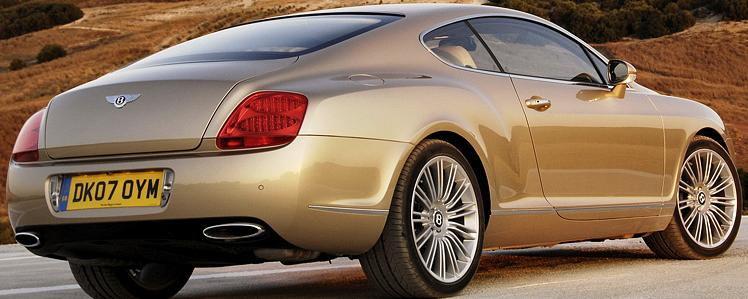back_view: (2, 79, 339, 252)
backlight: (211, 86, 312, 158)
side_glass: (411, 11, 615, 91)
